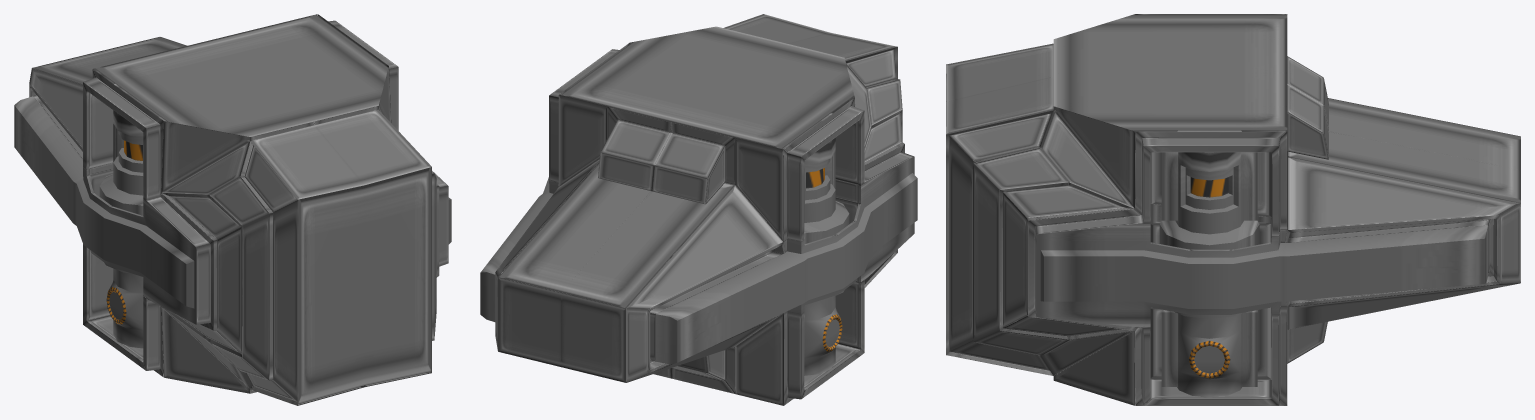
File: nodule.fbx
3 views of the same model, side by side, from view 1: azimuth 30°, elevation 25°; view 2: azimuth 150°, elevation 25°; view 3: azimuth 270°, elevation 25° (orthographic). The views are drawn at different scales.
Visible parts, largest first — view 1: laughingman; view 2: laughingman; view 3: laughingman.
Boxes of the visible parts, bbox=[...] form: laughingman: bbox=[14, 14, 451, 405]; laughingman: bbox=[480, 14, 917, 405]; laughingman: bbox=[946, 14, 1520, 405].
Size of the model in its own units: 116 by 97.11 by 184.
